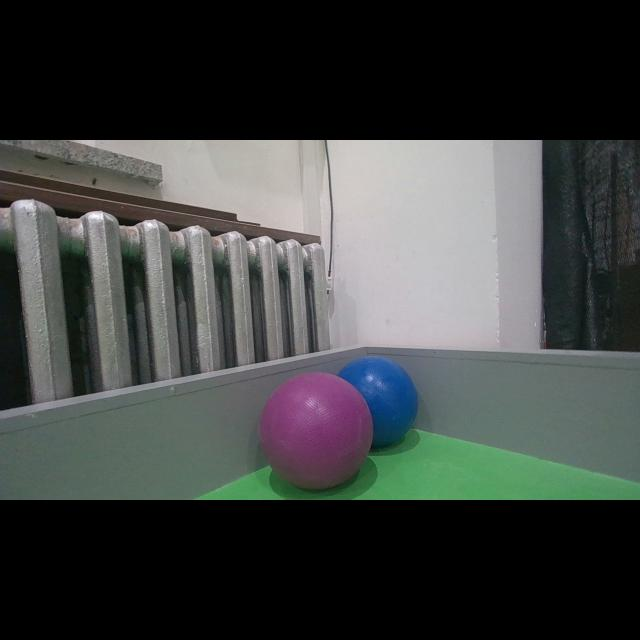B: (334, 356, 418, 448)
P: (258, 372, 374, 490)
